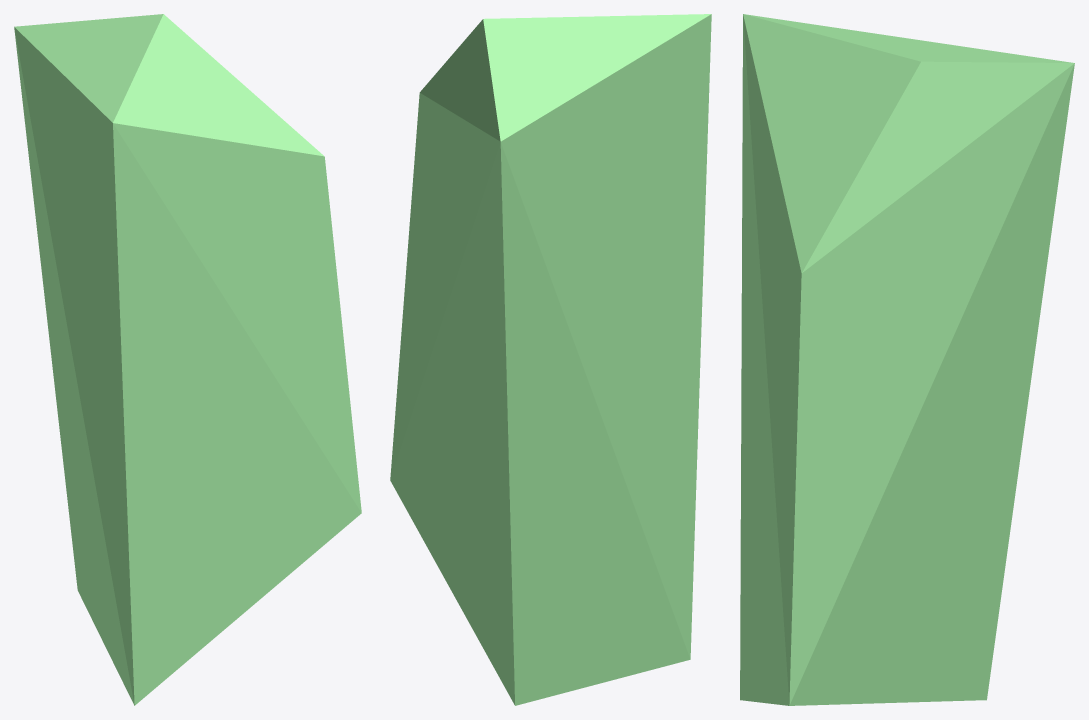
The model's file is xarm7_with_gripper_robot_base_coll_21.dae.
3 renders of one model, left to right at view 1: azimuth 30°, elevation 25°; view 2: azimuth 150°, elevation 25°; view 3: azimuth 270°, elevation 25°, orthographic. The views are drawn at different scales.
Visible parts, largest first — view 1: Node_000001B89B5E4DB0; view 2: Node_000001B89B5E4DB0; view 3: Node_000001B89B5E4DB0.
Part boxes in pixels (<box>): Node_000001B89B5E4DB0: <box>14,14,361,705</box>; Node_000001B89B5E4DB0: <box>390,14,711,705</box>; Node_000001B89B5E4DB0: <box>740,14,1074,705</box>.
Bounding box in the file's own units: 0.0237 × 0.0513 × 0.0223.
